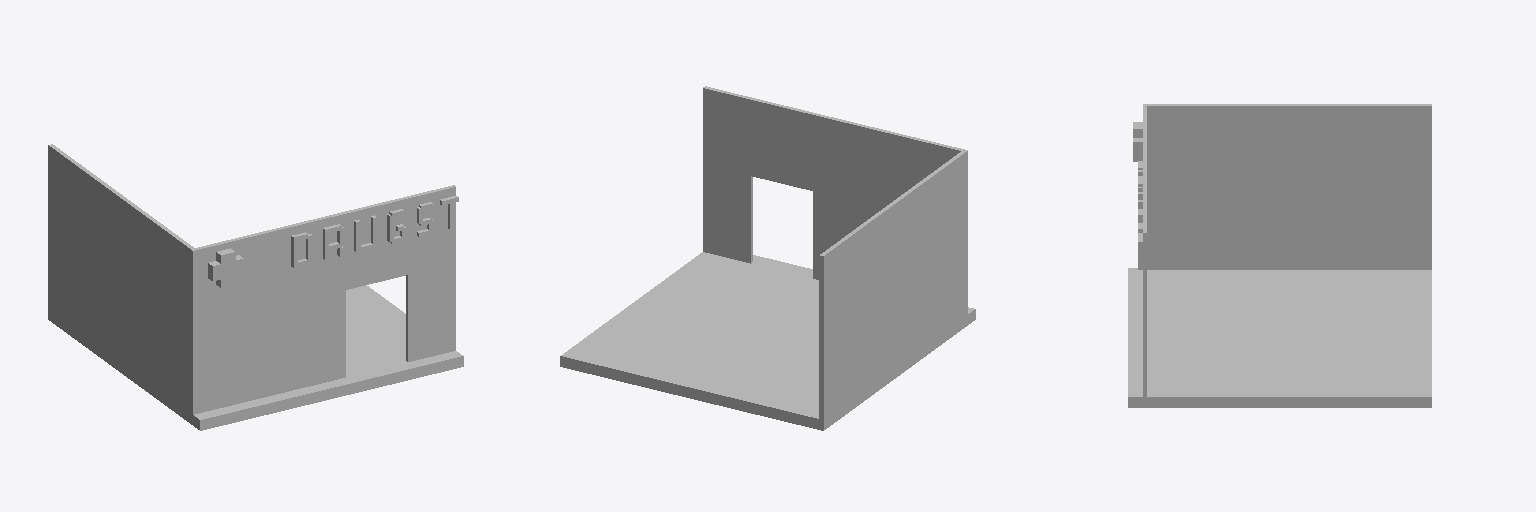
The model's file is 2x2 first-1.obj.
The picture shows the model from 3 angles: view 1: azimuth 30°, elevation 25°; view 2: azimuth 150°, elevation 25°; view 3: azimuth 270°, elevation 25°; orthographic projection.
Parts seen in each view (by area): view 1: 2x2 first-1; view 2: 2x2 first-1; view 3: 2x2 first-1.
Boxes of the visible parts, box(x1,y1,x2,y2) form: 2x2 first-1: box(48, 144, 463, 430); 2x2 first-1: box(560, 86, 975, 430); 2x2 first-1: box(1128, 104, 1431, 407).
Size of the model in its own units: 126 by 80 by 126.